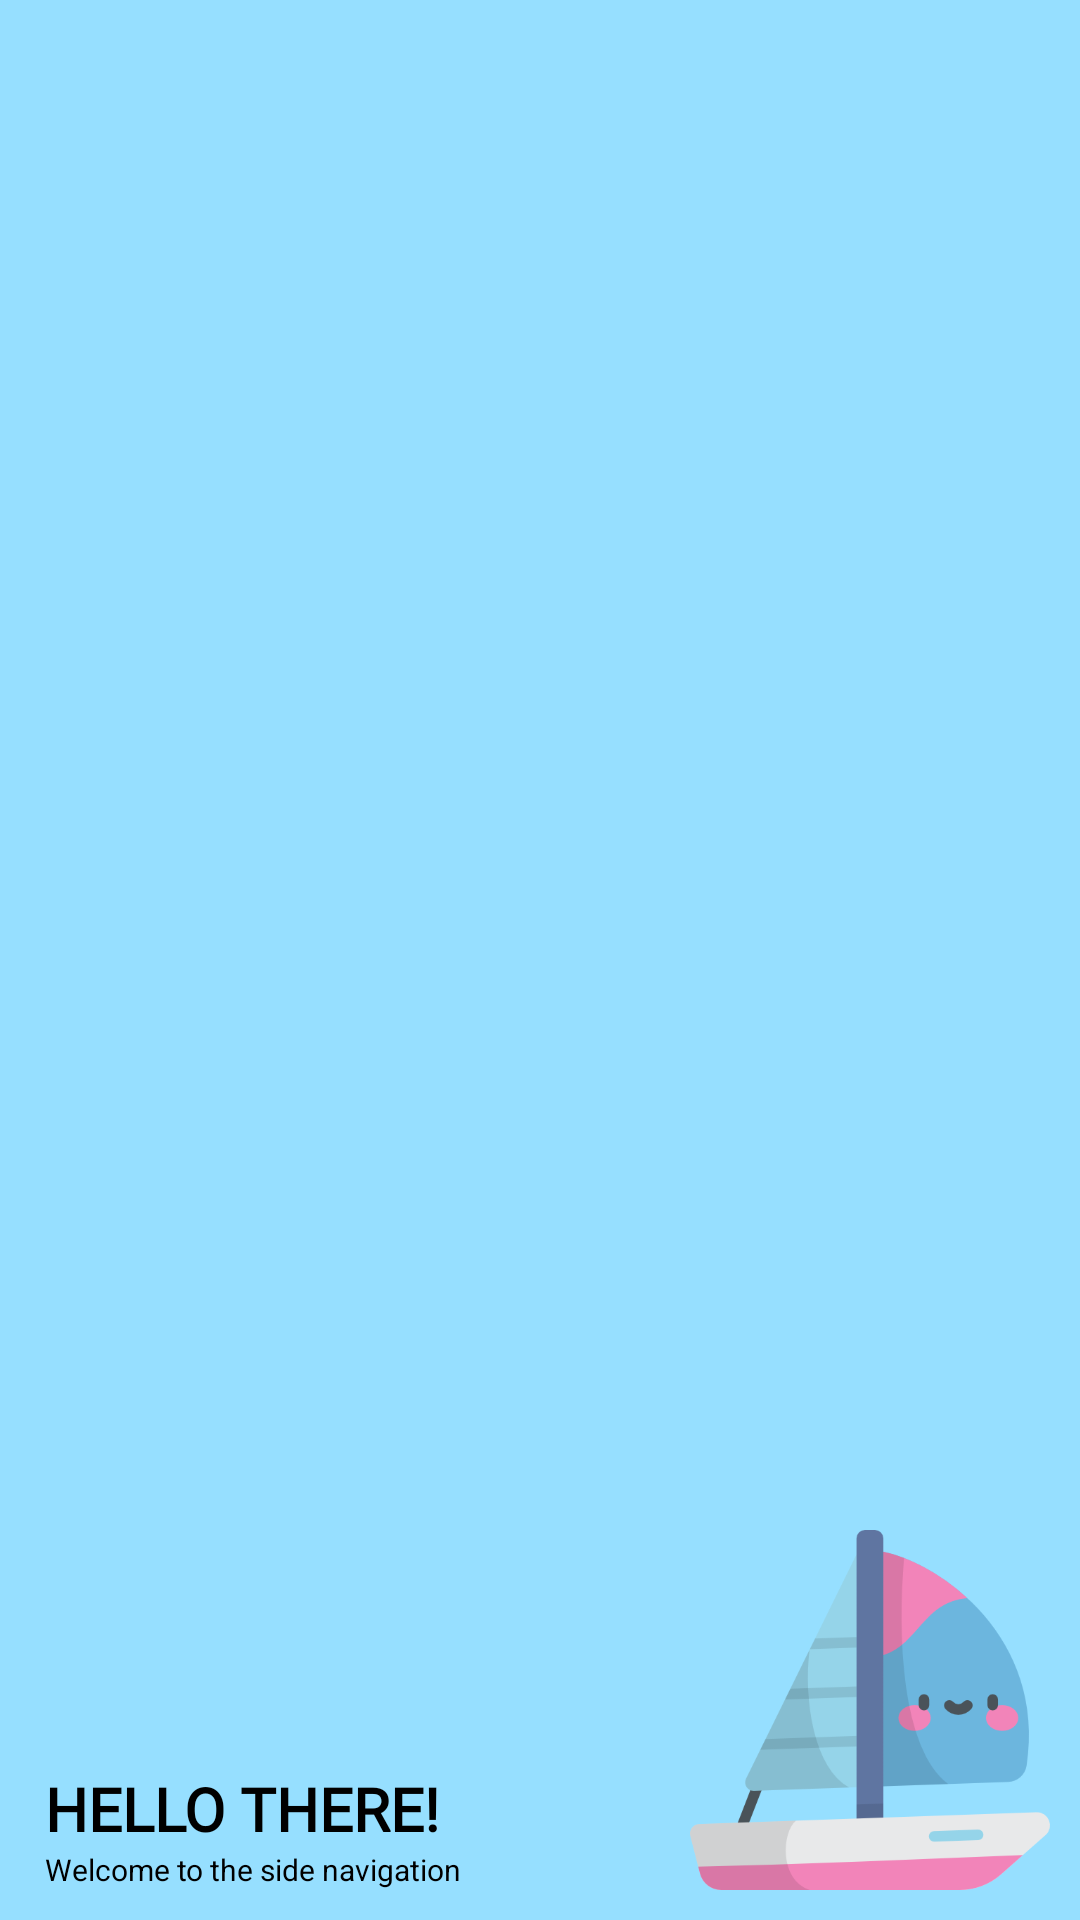

Icon click points for this 1080*1920 phone screenshot, format [x,y]:
boat: [870,1710]
